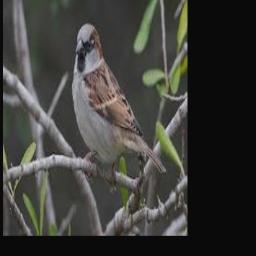Sparrow: (71, 23, 166, 175)
